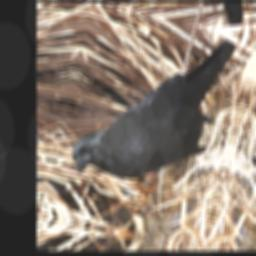Crow: (66, 12, 239, 200)
